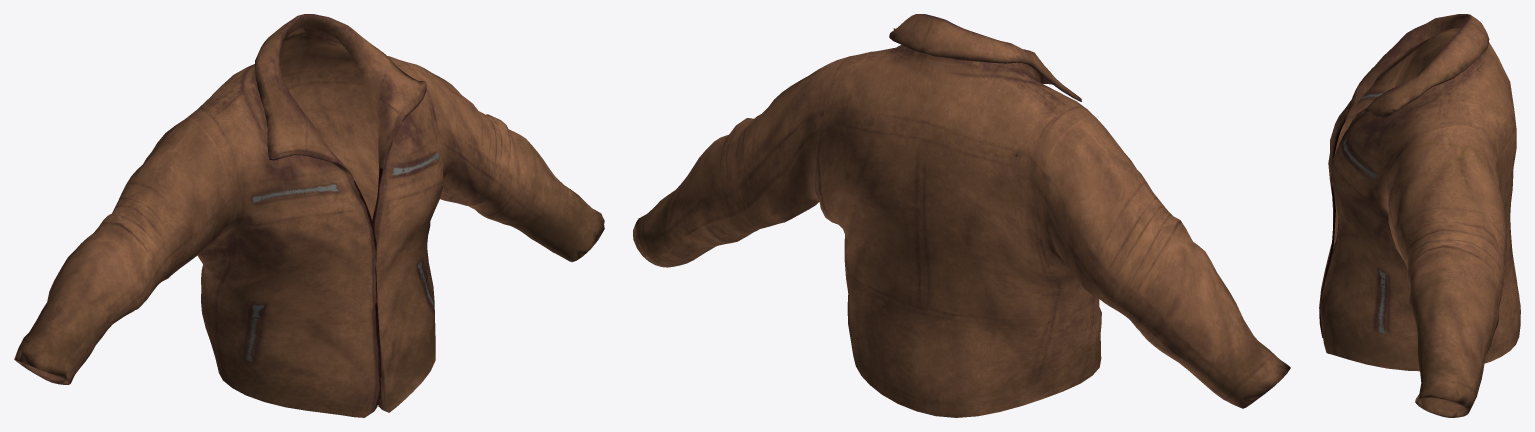
Rendered from M_Jacket_BS.fbx.
The picture shows the model from 3 angles, left to right: view 1: azimuth 30°, elevation 25°; view 2: azimuth 150°, elevation 25°; view 3: azimuth 270°, elevation 25°; orthographic projection. The views are drawn at different scales.
Parts seen in each view (by area): view 1: M_Jacket; view 2: M_Jacket; view 3: M_Jacket.
Boxes of the visible parts, left/top/right/bottom form: M_Jacket: left=14, top=14, right=604, bottom=417; M_Jacket: left=633, top=14, right=1290, bottom=417; M_Jacket: left=1319, top=14, right=1520, bottom=417.
Size of the model in its own units: 36.4 by 20.65 by 11.42.
